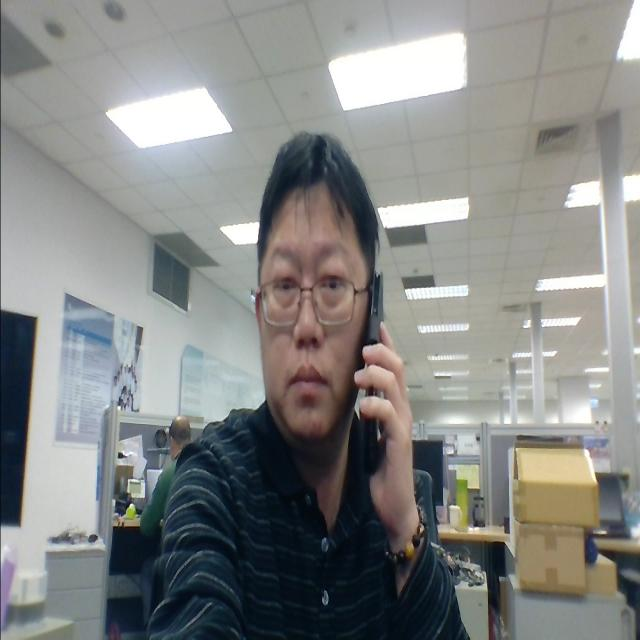phone: (342, 260, 422, 534)
